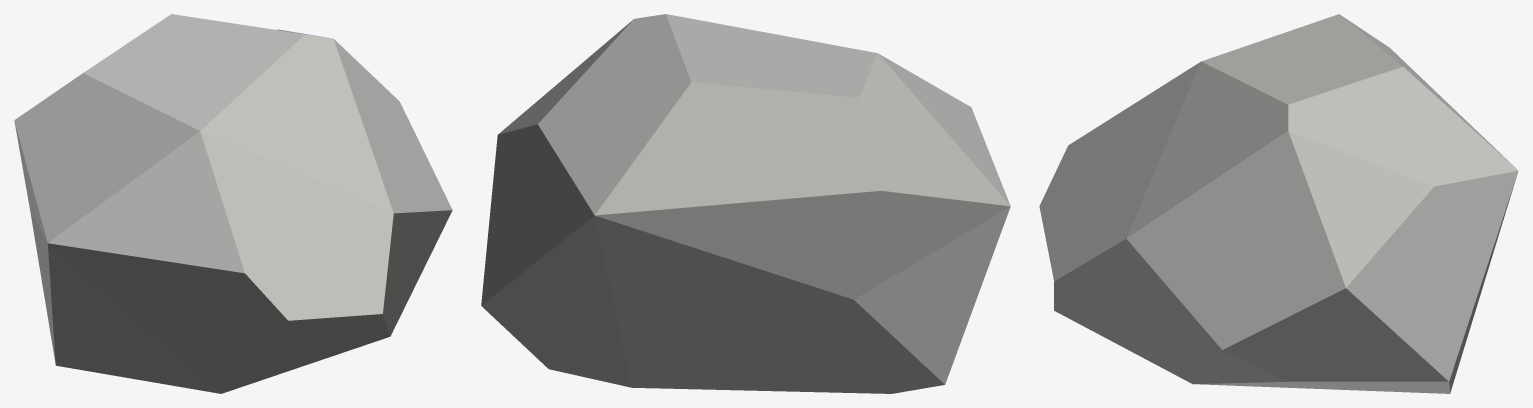
File: rock.fbx
3 views of the same model, side by side, from view 1: azimuth 30°, elevation 25°; view 2: azimuth 150°, elevation 25°; view 3: azimuth 270°, elevation 25° (orthographic). The views are drawn at different scales.
Visible parts, largest first — view 1: Icosphere; view 2: Icosphere; view 3: Icosphere.
Part boxes in pixels (<box>): Icosphere: <box>14,14,452,393</box>; Icosphere: <box>481,14,1010,393</box>; Icosphere: <box>1039,14,1518,393</box>.
Bounding box in the file's own units: 293 × 187 × 291.
1 material, 1 textured.
